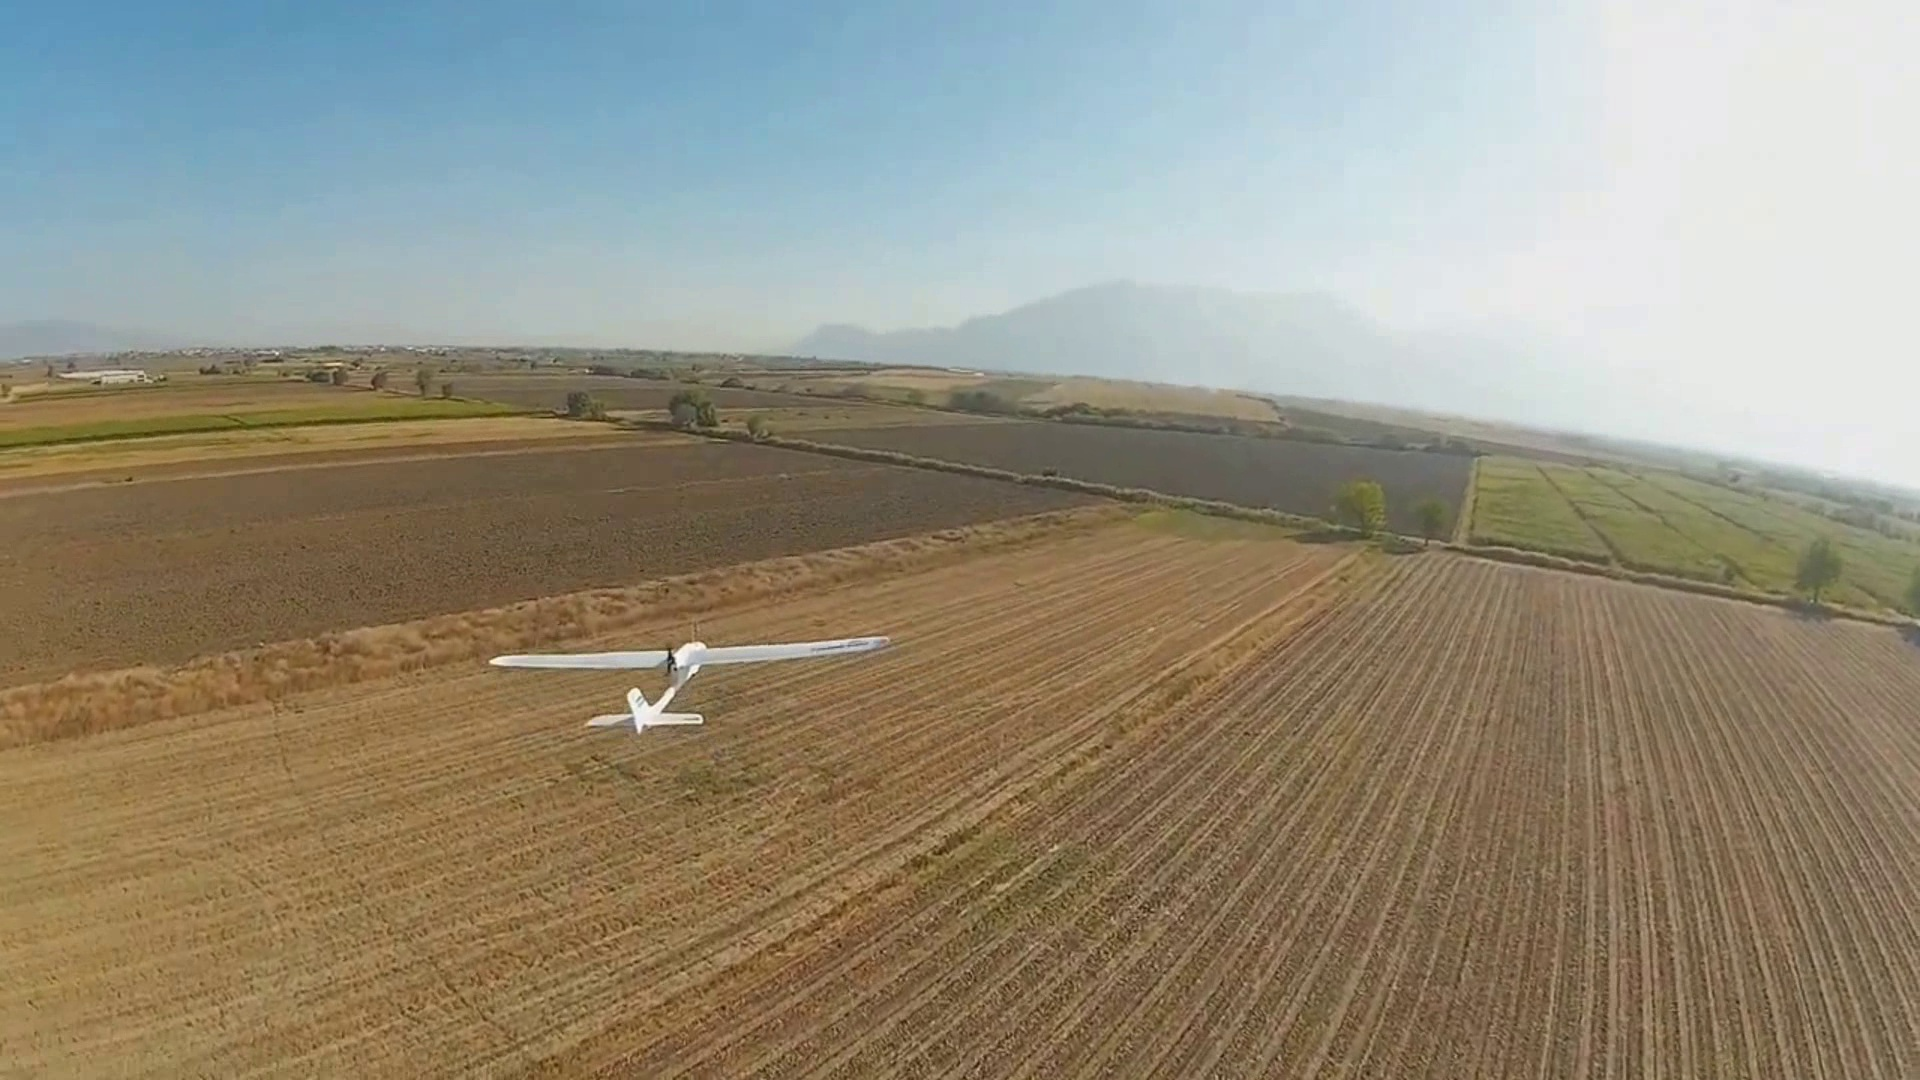airplane: (486, 634, 889, 736)
